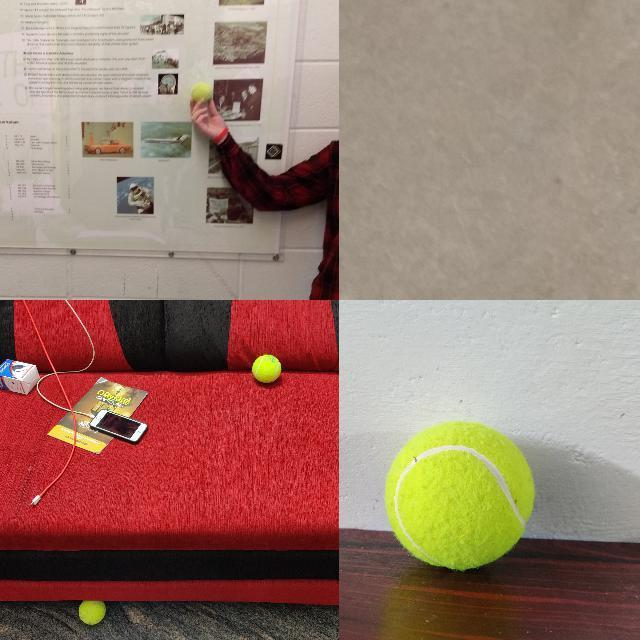tennis-ball: (384, 420, 534, 570), (252, 354, 280, 382), (78, 602, 106, 624), (190, 82, 212, 105)
